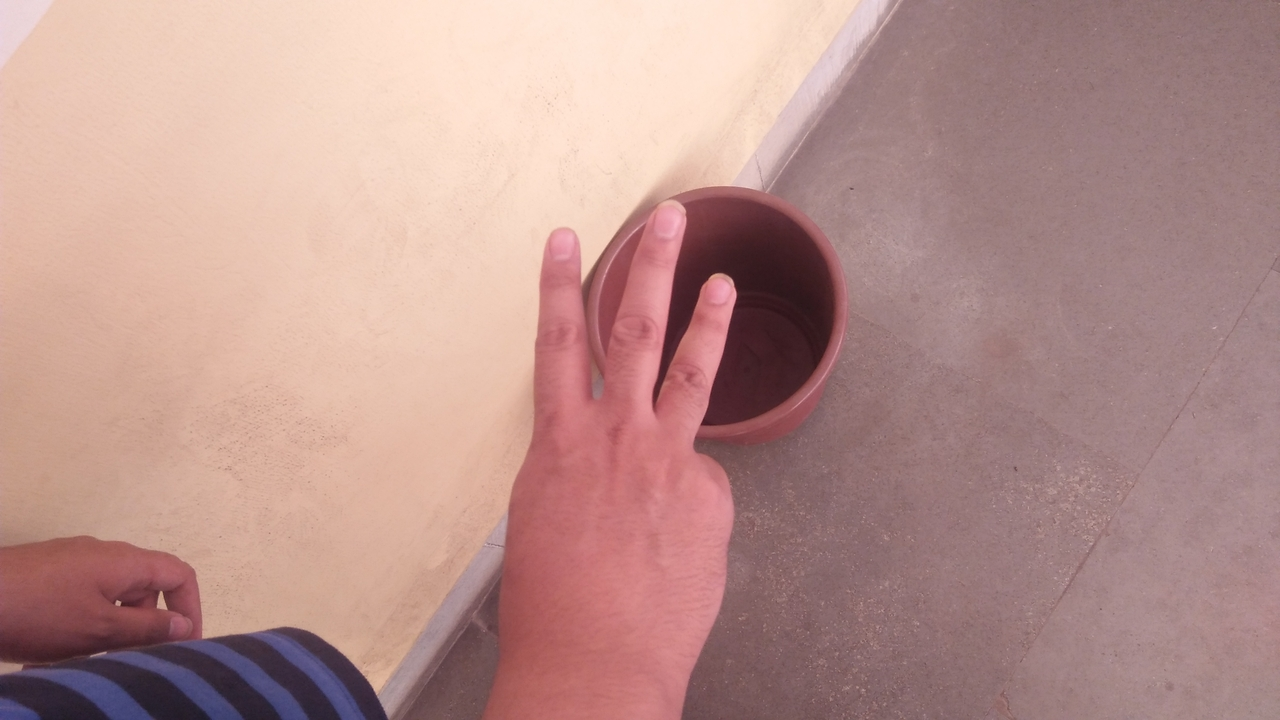fingertip: (636, 194, 692, 256), (536, 216, 590, 268), (691, 269, 735, 321)
